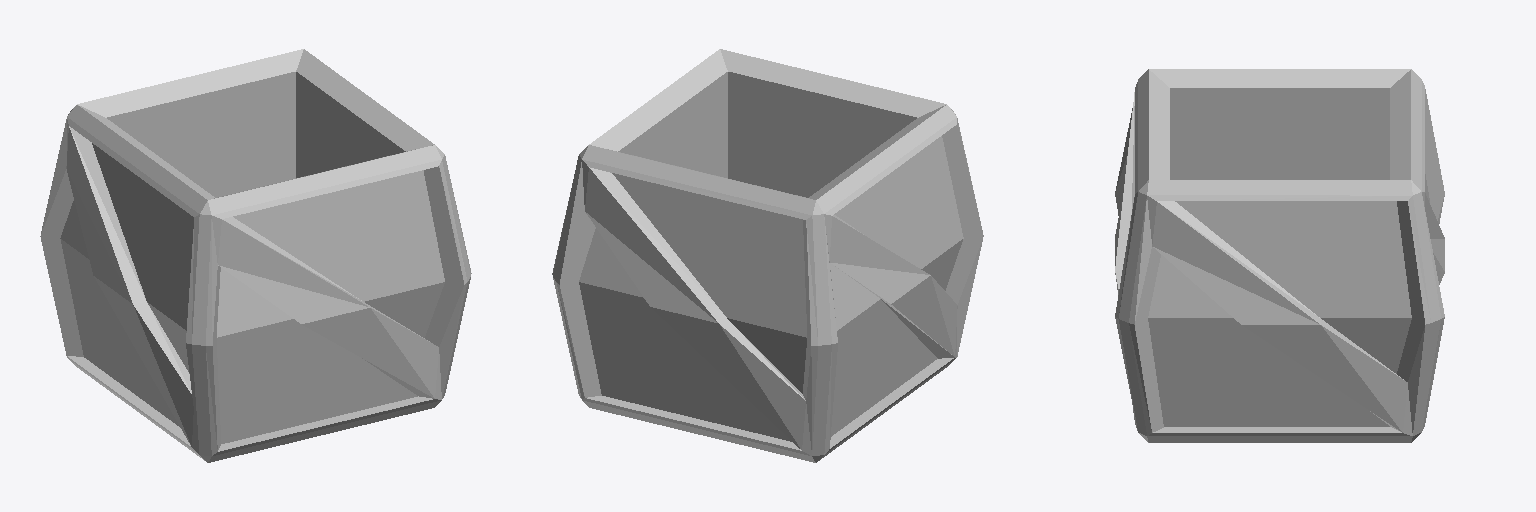
File: storagecrate.obj
The picture shows the model from 3 angles: view 1: azimuth 30°, elevation 25°; view 2: azimuth 150°, elevation 25°; view 3: azimuth 270°, elevation 25°; orthographic projection.
Visible parts, largest first — view 1: storagecrate; view 2: storagecrate; view 3: storagecrate.
Part boxes in pixels (x1,y1,x2,y2): storagecrate: (40,49,471,462); storagecrate: (552,49,983,462); storagecrate: (1115,69,1444,442).
Size of the model in its own units: 2.28 by 2 by 2.28.